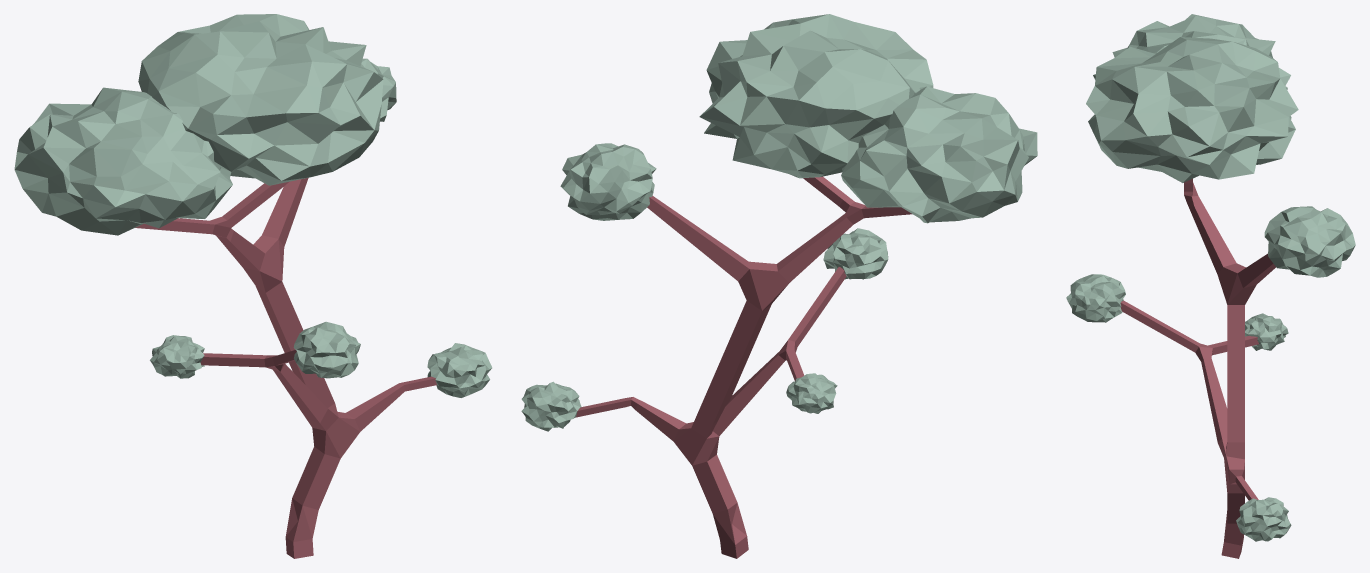
The model's file is Tree_3.fbx.
The picture shows the model from 3 angles, left to right: view 1: azimuth 30°, elevation 25°; view 2: azimuth 150°, elevation 25°; view 3: azimuth 270°, elevation 25°; orthographic projection. The views are drawn at different scales.
Parts seen in each view (by area): view 1: Icosphere.005, Icosphere.003, Cube, Icosphere.002, Icosphere, Icosphere.001, Icosphere.004; view 2: Icosphere.005, Icosphere.003, Cube, Icosphere.004, Icosphere.002, Icosphere, Icosphere.001; view 3: Icosphere.005, Cube, Icosphere.004, Icosphere.003, Icosphere.002, Icosphere, Icosphere.001.
Part boxes in pixels (x1,y1,x2,y2): Icosphere.005: (138,14,383,185); Icosphere.003: (14,87,232,235); Cube: (135,177,436,558); Icosphere.002: (293,321,360,378); Icosphere: (427,343,492,397); Icosphere.001: (150,335,204,378); Icosphere.004: (361,58,396,121); Icosphere.005: (699,14,933,178); Icosphere.003: (841,86,1037,223); Cube: (575,176,912,558); Icosphere.004: (560,143,656,220); Icosphere.002: (823,228,888,279); Icosphere: (521,381,581,431); Icosphere.001: (786,373,837,413); Icosphere.005: (1086,37,1298,182); Cube: (1120,178,1275,558); Icosphere.004: (1264,206,1355,277); Icosphere.003: (1093,14,1290,85); Icosphere.002: (1066,274,1125,322); Icosphere: (1236,497,1291,541); Icosphere.001: (1245,313,1288,350).
Bounding box in the file's own units: 1372 × 1471 × 811.
